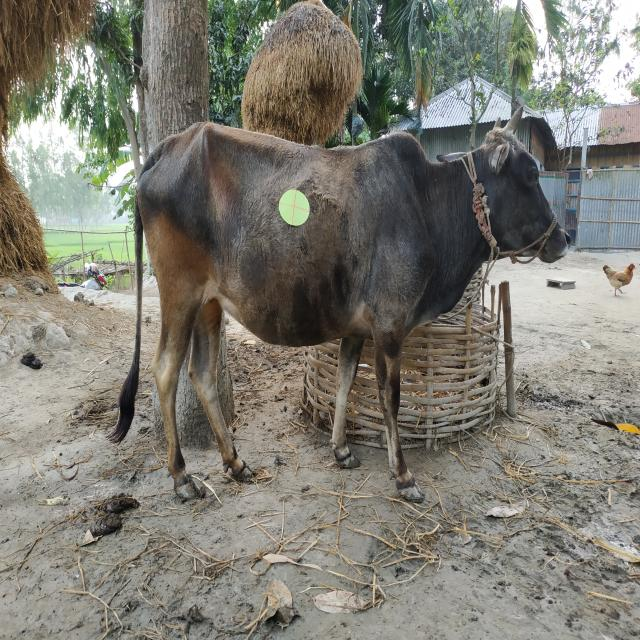badan_sapi: (139, 141, 427, 344)
sapi: (107, 103, 567, 515)
